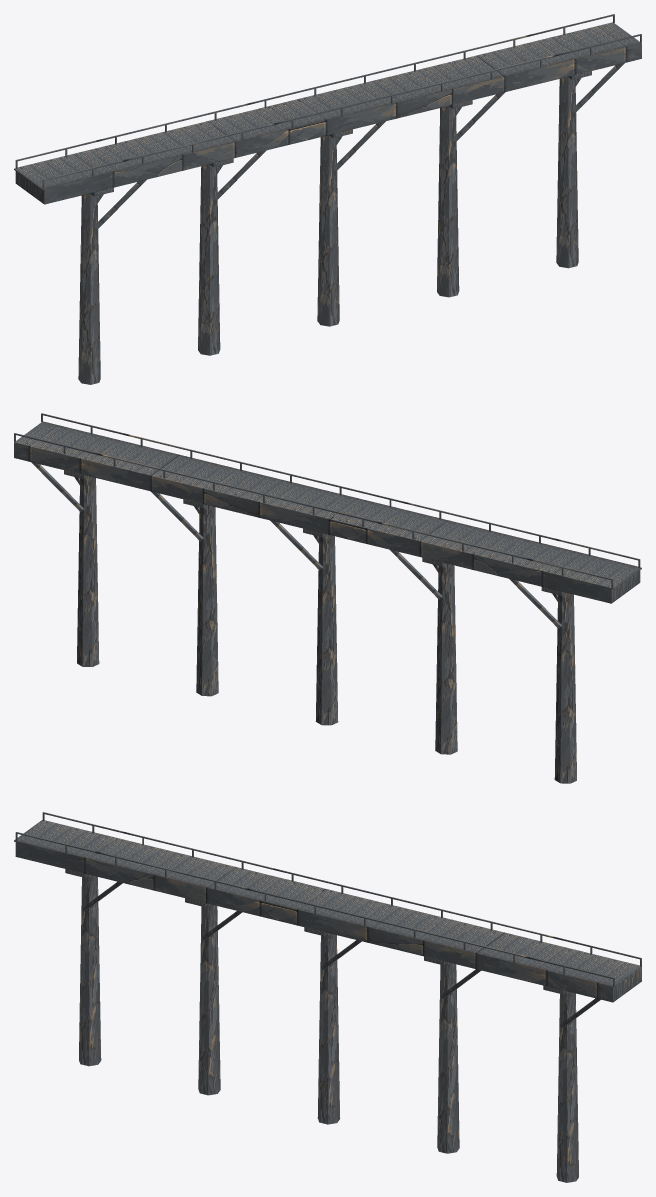
The model's file is ravineBridge.glb.
3 views of the same model, one above another, from view 1: azimuth 30°, elevation 25°; view 2: azimuth 150°, elevation 25°; view 3: azimuth 330°, elevation 25° (orthographic).
Parts seen in each view (by area): view 1: Load-bearing deck, Slate pier, Slate pier.002, Slate pier.004, Slate pier.001, Slate pier.003, Guard rail, Guard rail.001; view 2: Load-bearing deck, Slate pier.001, Slate pier.003, Slate pier, Slate pier.002, Slate pier.004, Guard rail.001, Guard rail; view 3: Load-bearing deck, Slate pier.001, Slate pier.003, Slate pier, Slate pier.002, Slate pier.004, Guard rail, Guard rail.001.
Boxes of the visible parts, x1=… form: Load-bearing deck: x1=15, y1=22, x2=641, y2=204; Slate pier: x1=78, y1=193, x2=100, y2=384; Slate pier.002: x1=317, y1=135, x2=339, y2=326; Slate pier.004: x1=556, y1=77, x2=578, y2=268; Slate pier.001: x1=198, y1=164, x2=220, y2=355; Slate pier.003: x1=437, y1=106, x2=459, y2=297; Guard rail: x1=16, y1=14, x2=613, y2=161; Guard rail.001: x1=43, y1=34, x2=640, y2=180; Load-bearing deck: x1=14, y1=421, x2=640, y2=603; Slate pier.001: x1=435, y1=563, x2=457, y2=754; Slate pier.003: x1=196, y1=505, x2=218, y2=696; Slate pier: x1=554, y1=592, x2=576, y2=783; Slate pier.002: x1=315, y1=534, x2=338, y2=725; Slate pier.004: x1=77, y1=476, x2=99, y2=666; Guard rail.001: x1=42, y1=413, x2=639, y2=560; Guard rail: x1=15, y1=433, x2=611, y2=579; Load-bearing deck: x1=15, y1=820, x2=641, y2=1002; Slate pier.001: x1=198, y1=904, x2=220, y2=1095; Slate pier.003: x1=437, y1=962, x2=459, y2=1153; Slate pier: x1=79, y1=875, x2=101, y2=1066; Slate pier.002: x1=317, y1=933, x2=340, y2=1124; Slate pier.004: x1=556, y1=991, x2=578, y2=1182; Guard rail: x1=43, y1=812, x2=640, y2=959; Guard rail.001: x1=16, y1=832, x2=613, y2=978.
Size of what is drawn, in the model's own units: 121 by 43.11 by 10.
3 materials, 3 textured.
